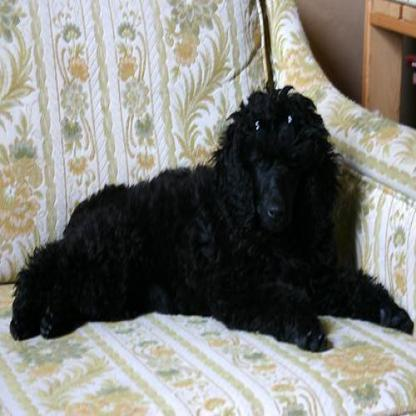miniature_poodle: (7, 69, 414, 352)
